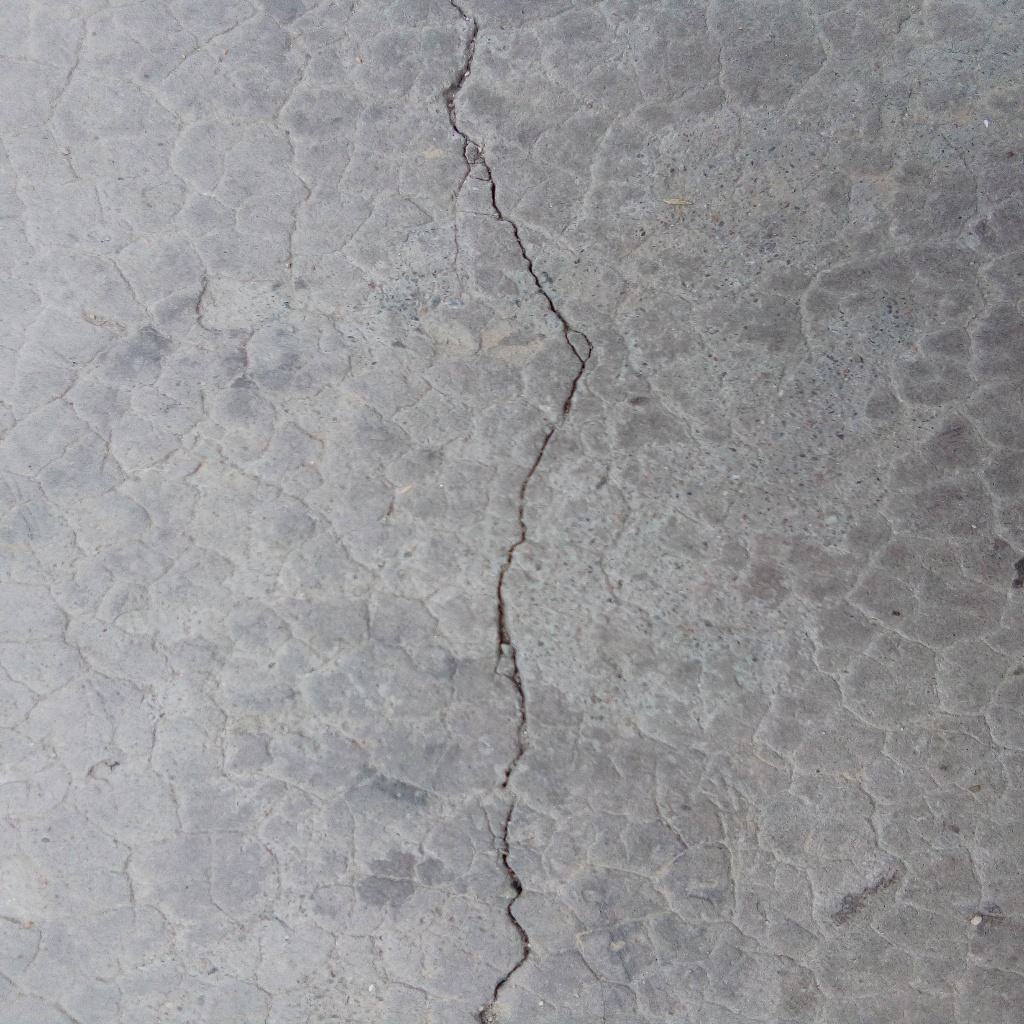Crack: (443, 1, 594, 1024)
